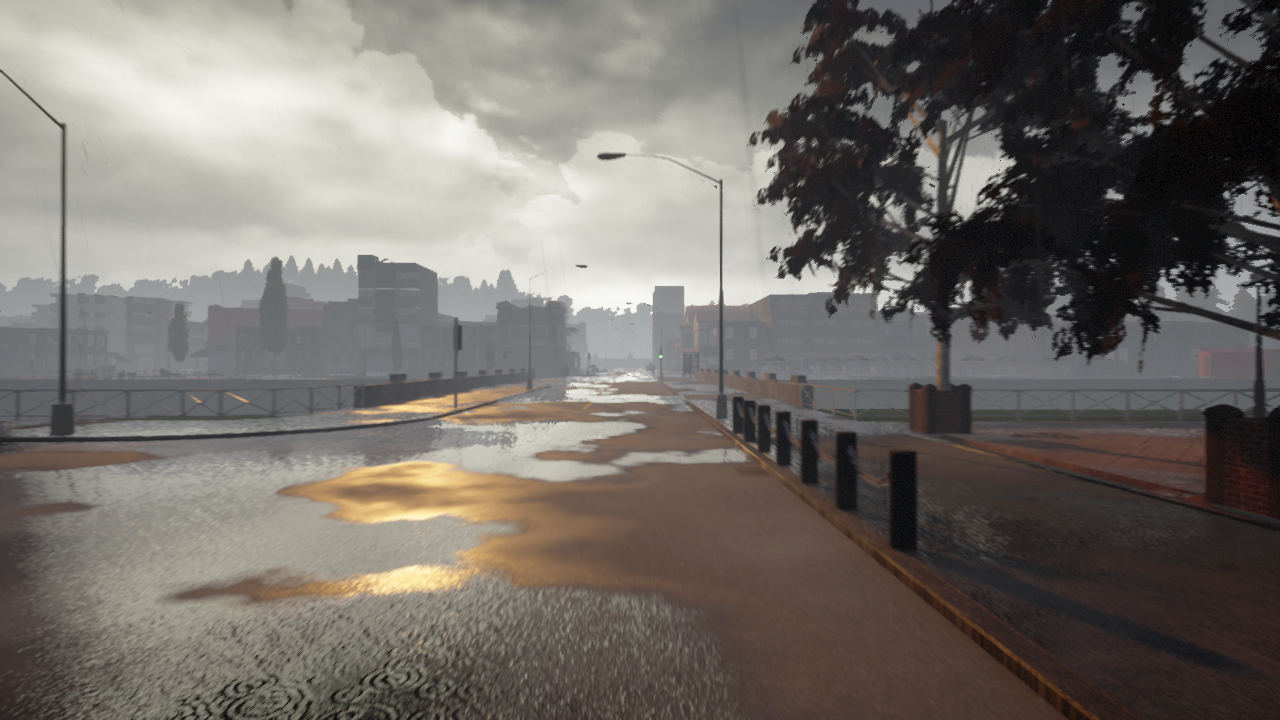green: (658, 349, 663, 359)
